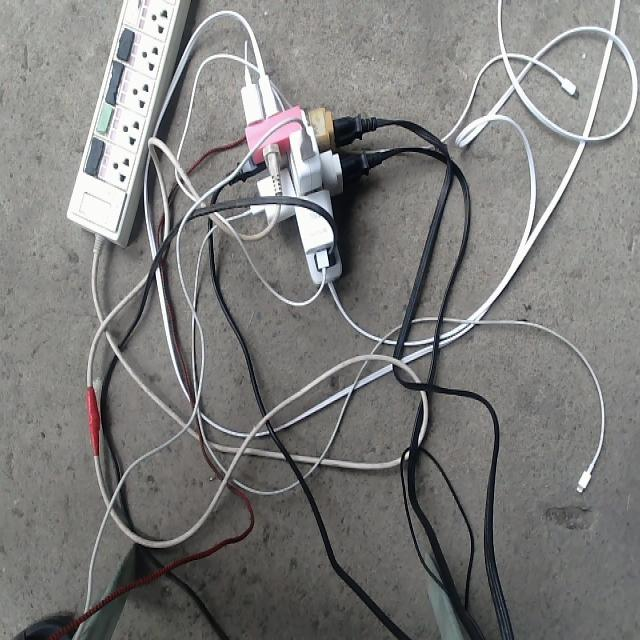-: (228, 65, 362, 292)
